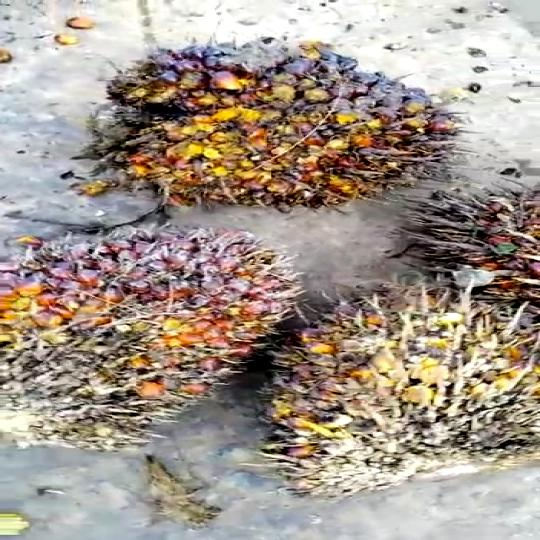masak: (50, 29, 456, 214), (0, 220, 291, 477), (243, 285, 540, 510)
